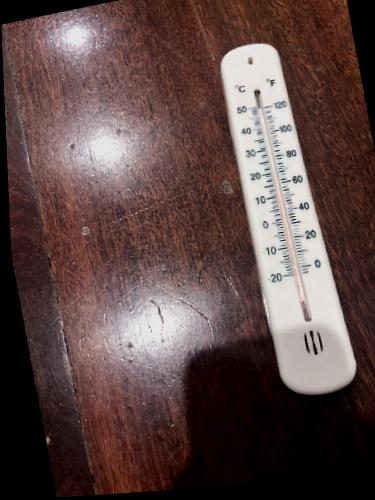thermo: (216, 38, 360, 396)
